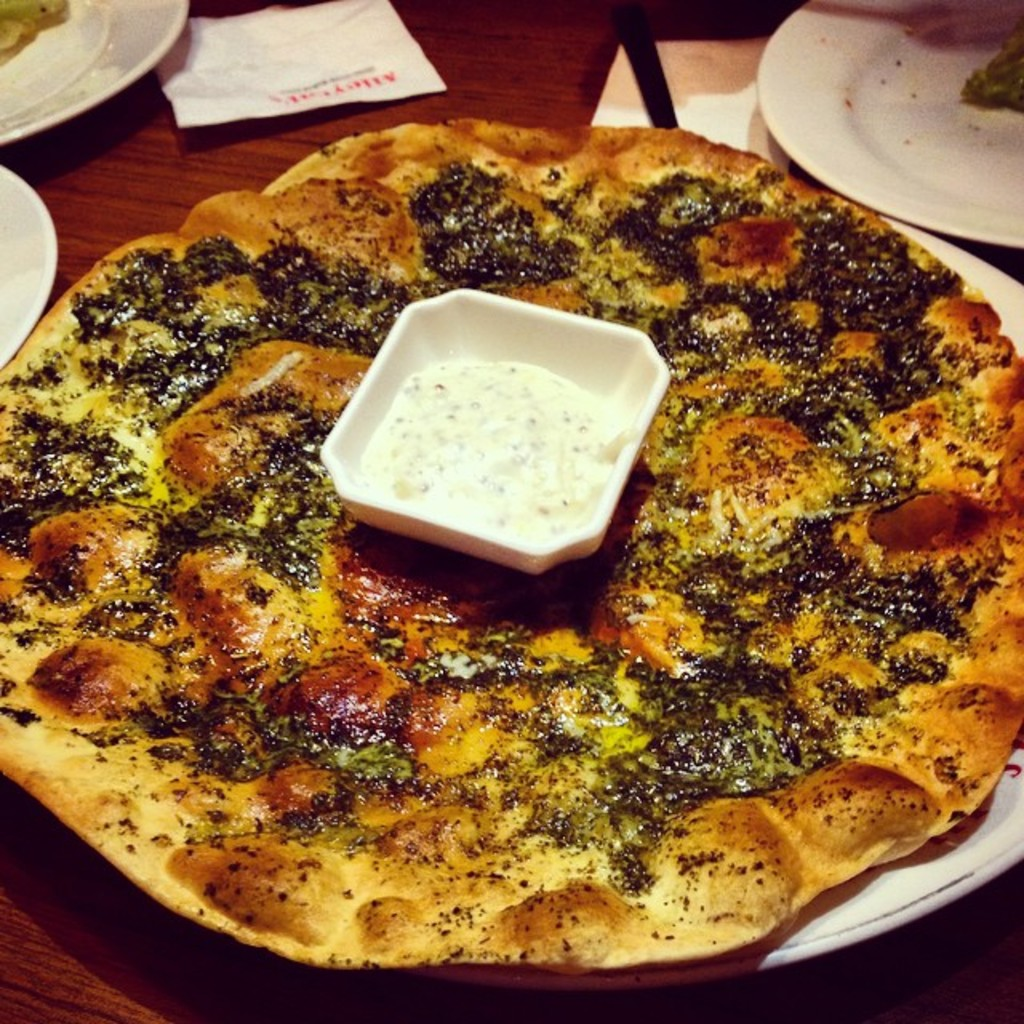Pizza: (0, 67, 1022, 996)
